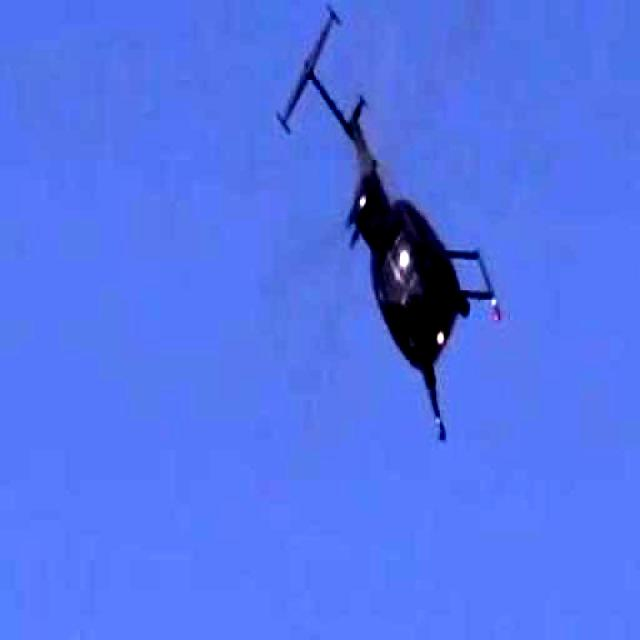drone: (225, 0, 581, 509)
